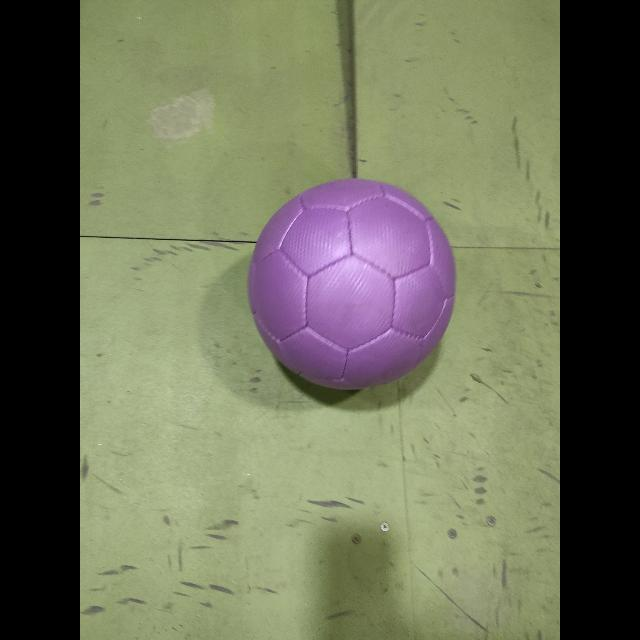P: (249, 178, 455, 388)
